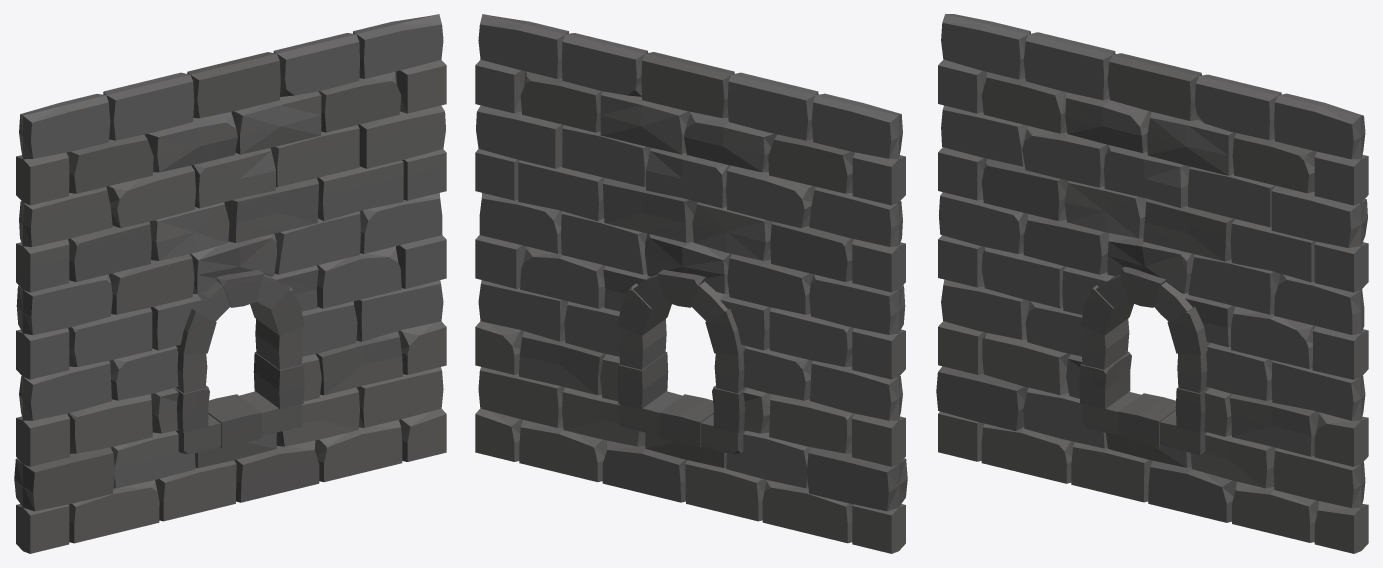
The model's file is Wall_15_dra.glb.
3 views of the same model, side by side, from view 1: azimuth 30°, elevation 25°; view 2: azimuth 150°, elevation 25°; view 3: azimuth 330°, elevation 25° (orthographic).
Parts seen in each view (by area): view 1: Wall_15; view 2: Wall_15; view 3: Wall_15.
Boxes of the visible parts, <box> form: Wall_15: <box>14,14,446,553</box>; Wall_15: <box>475,14,907,553</box>; Wall_15: <box>936,14,1368,553</box>.
Size of the model in its own units: 4 by 4 by 0.4279.
Materials: 1 (1 with a texture image).
